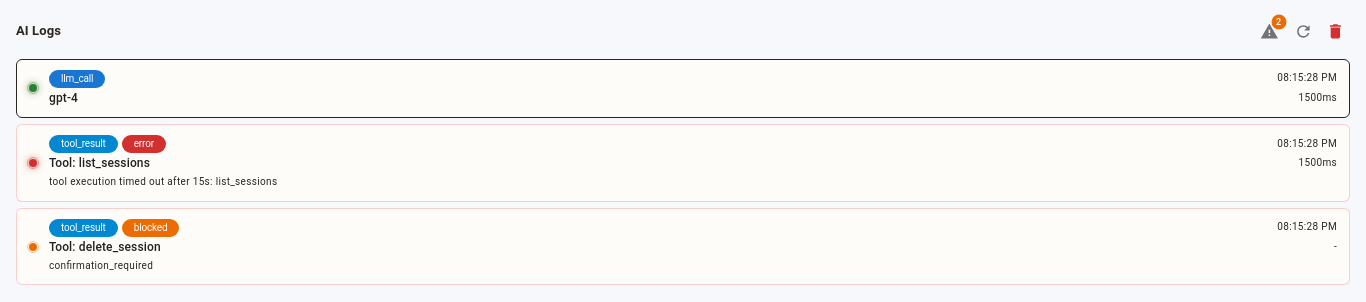
Test: AiLogsView › issues toggle filters error and blocked logs
Expected: the list item with test id "ai-log-row-log-ok" is shown, [16,59,1350,118]
Expected: the list item with test id "ai-log-row-log-error" is shown, [16,124,1350,202]
Click the button with test id "ai-logs-issues-toggle" at (1269, 31), box [1254,16,1285,47]
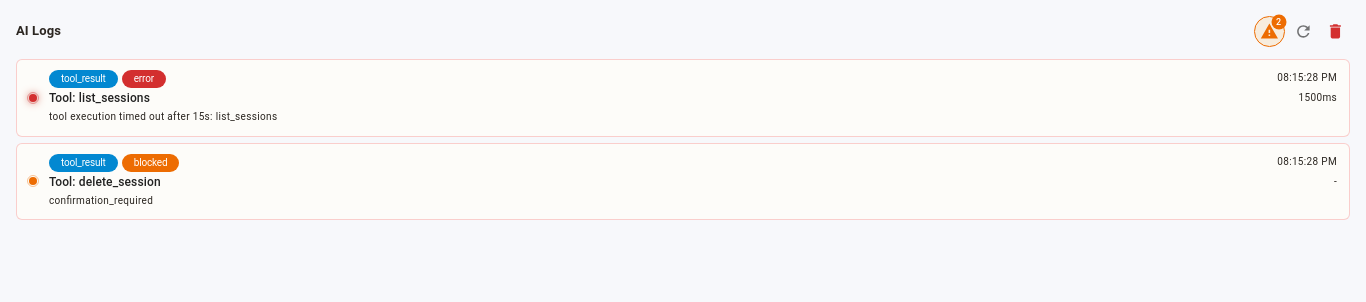
Expected: the list item with test id "ai-log-row-log-error" is shown, [16,59,1350,137]
Now the list item with test id "ai-log-row-log-ok" is gone
